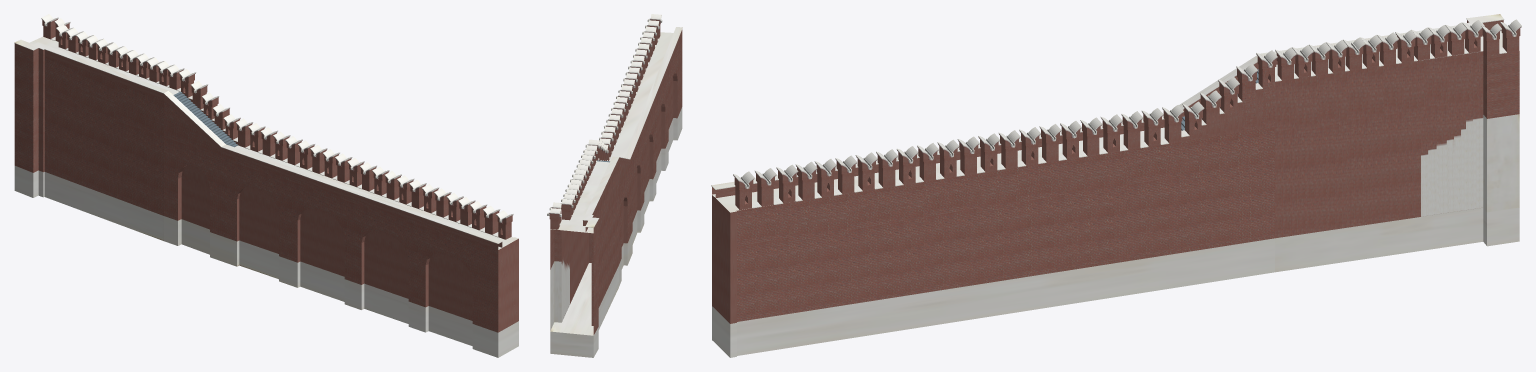
Rendered from 01080_Kremlyovskaya_stena_16.FBX.
3 renders of one model, left to right at view 1: azimuth 30°, elevation 25°; view 2: azimuth 150°, elevation 25°; view 3: azimuth 270°, elevation 25°, orthographic. The views are drawn at different scales.
Visible parts, largest first — view 1: Group_004, Group_001, Group_304, Group_303, Group_002, Group_261, Group_006, Group_260, Group_008, Group_005, Group_003, Group_007; view 2: Group_004, Group_303, Group_001, Group_308, Group_260, Group_304, Group_005, Group_006, Group_002, Group_307, Group_008, Group_261 (+1 smaller); view 3: Group_004, Group_308, Group_304, Group_303, Group_307, Group_002, Group_260, Group_261, Group_047, Group_012.
Boxes of the visible parts, left/top/right/bottom form: Group_004: left=164, top=100, right=518, bottom=332; Group_001: left=44, top=56, right=163, bottom=215; Group_304: left=164, top=216, right=518, bottom=357; Group_303: left=14, top=166, right=163, bottom=240; Group_002: left=14, top=49, right=44, bottom=172; Group_261: left=44, top=50, right=502, bottom=249; Group_006: left=221, top=144, right=502, bottom=243; Group_260: left=235, top=145, right=518, bottom=249; Group_008: left=14, top=39, right=167, bottom=93; Group_005: left=29, top=36, right=179, bottom=94; Group_003: left=173, top=91, right=237, bottom=147; Group_007: left=164, top=91, right=225, bottom=146; Group_004: left=589, top=34, right=682, bottom=264; Group_303: left=550, top=263, right=618, bottom=357; Group_001: left=593, top=163, right=618, bottom=307; Group_308: left=561, top=230, right=588, bottom=322; Group_260: left=609, top=32, right=673, bottom=161; Group_304: left=619, top=107, right=682, bottom=286; Group_005: left=550, top=161, right=609, bottom=233; Group_006: left=624, top=27, right=682, bottom=158; Group_002: left=550, top=225, right=598, bottom=334; Group_307: left=550, top=261, right=561, bottom=330; Group_008: left=582, top=156, right=619, bottom=227; Group_261: left=592, top=30, right=682, bottom=217; Group_004: left=712, top=127, right=1274, bottom=323; Group_308: left=1275, top=51, right=1483, bottom=238; Group_304: left=712, top=238, right=1274, bottom=357; Group_303: left=1275, top=207, right=1519, bottom=272; Group_307: left=1483, top=114, right=1519, bottom=212; Group_002: left=1487, top=51, right=1519, bottom=118; Group_260: left=712, top=127, right=1164, bottom=212; Group_261: left=712, top=119, right=1164, bottom=197; Group_047: left=1258, top=65, right=1274, bottom=128; Group_012: left=1238, top=78, right=1255, bottom=131.
Bounding box in the file's own units: 27.3 × 19.08 × 64.83.
Materials: 9 (9 with a texture image).
